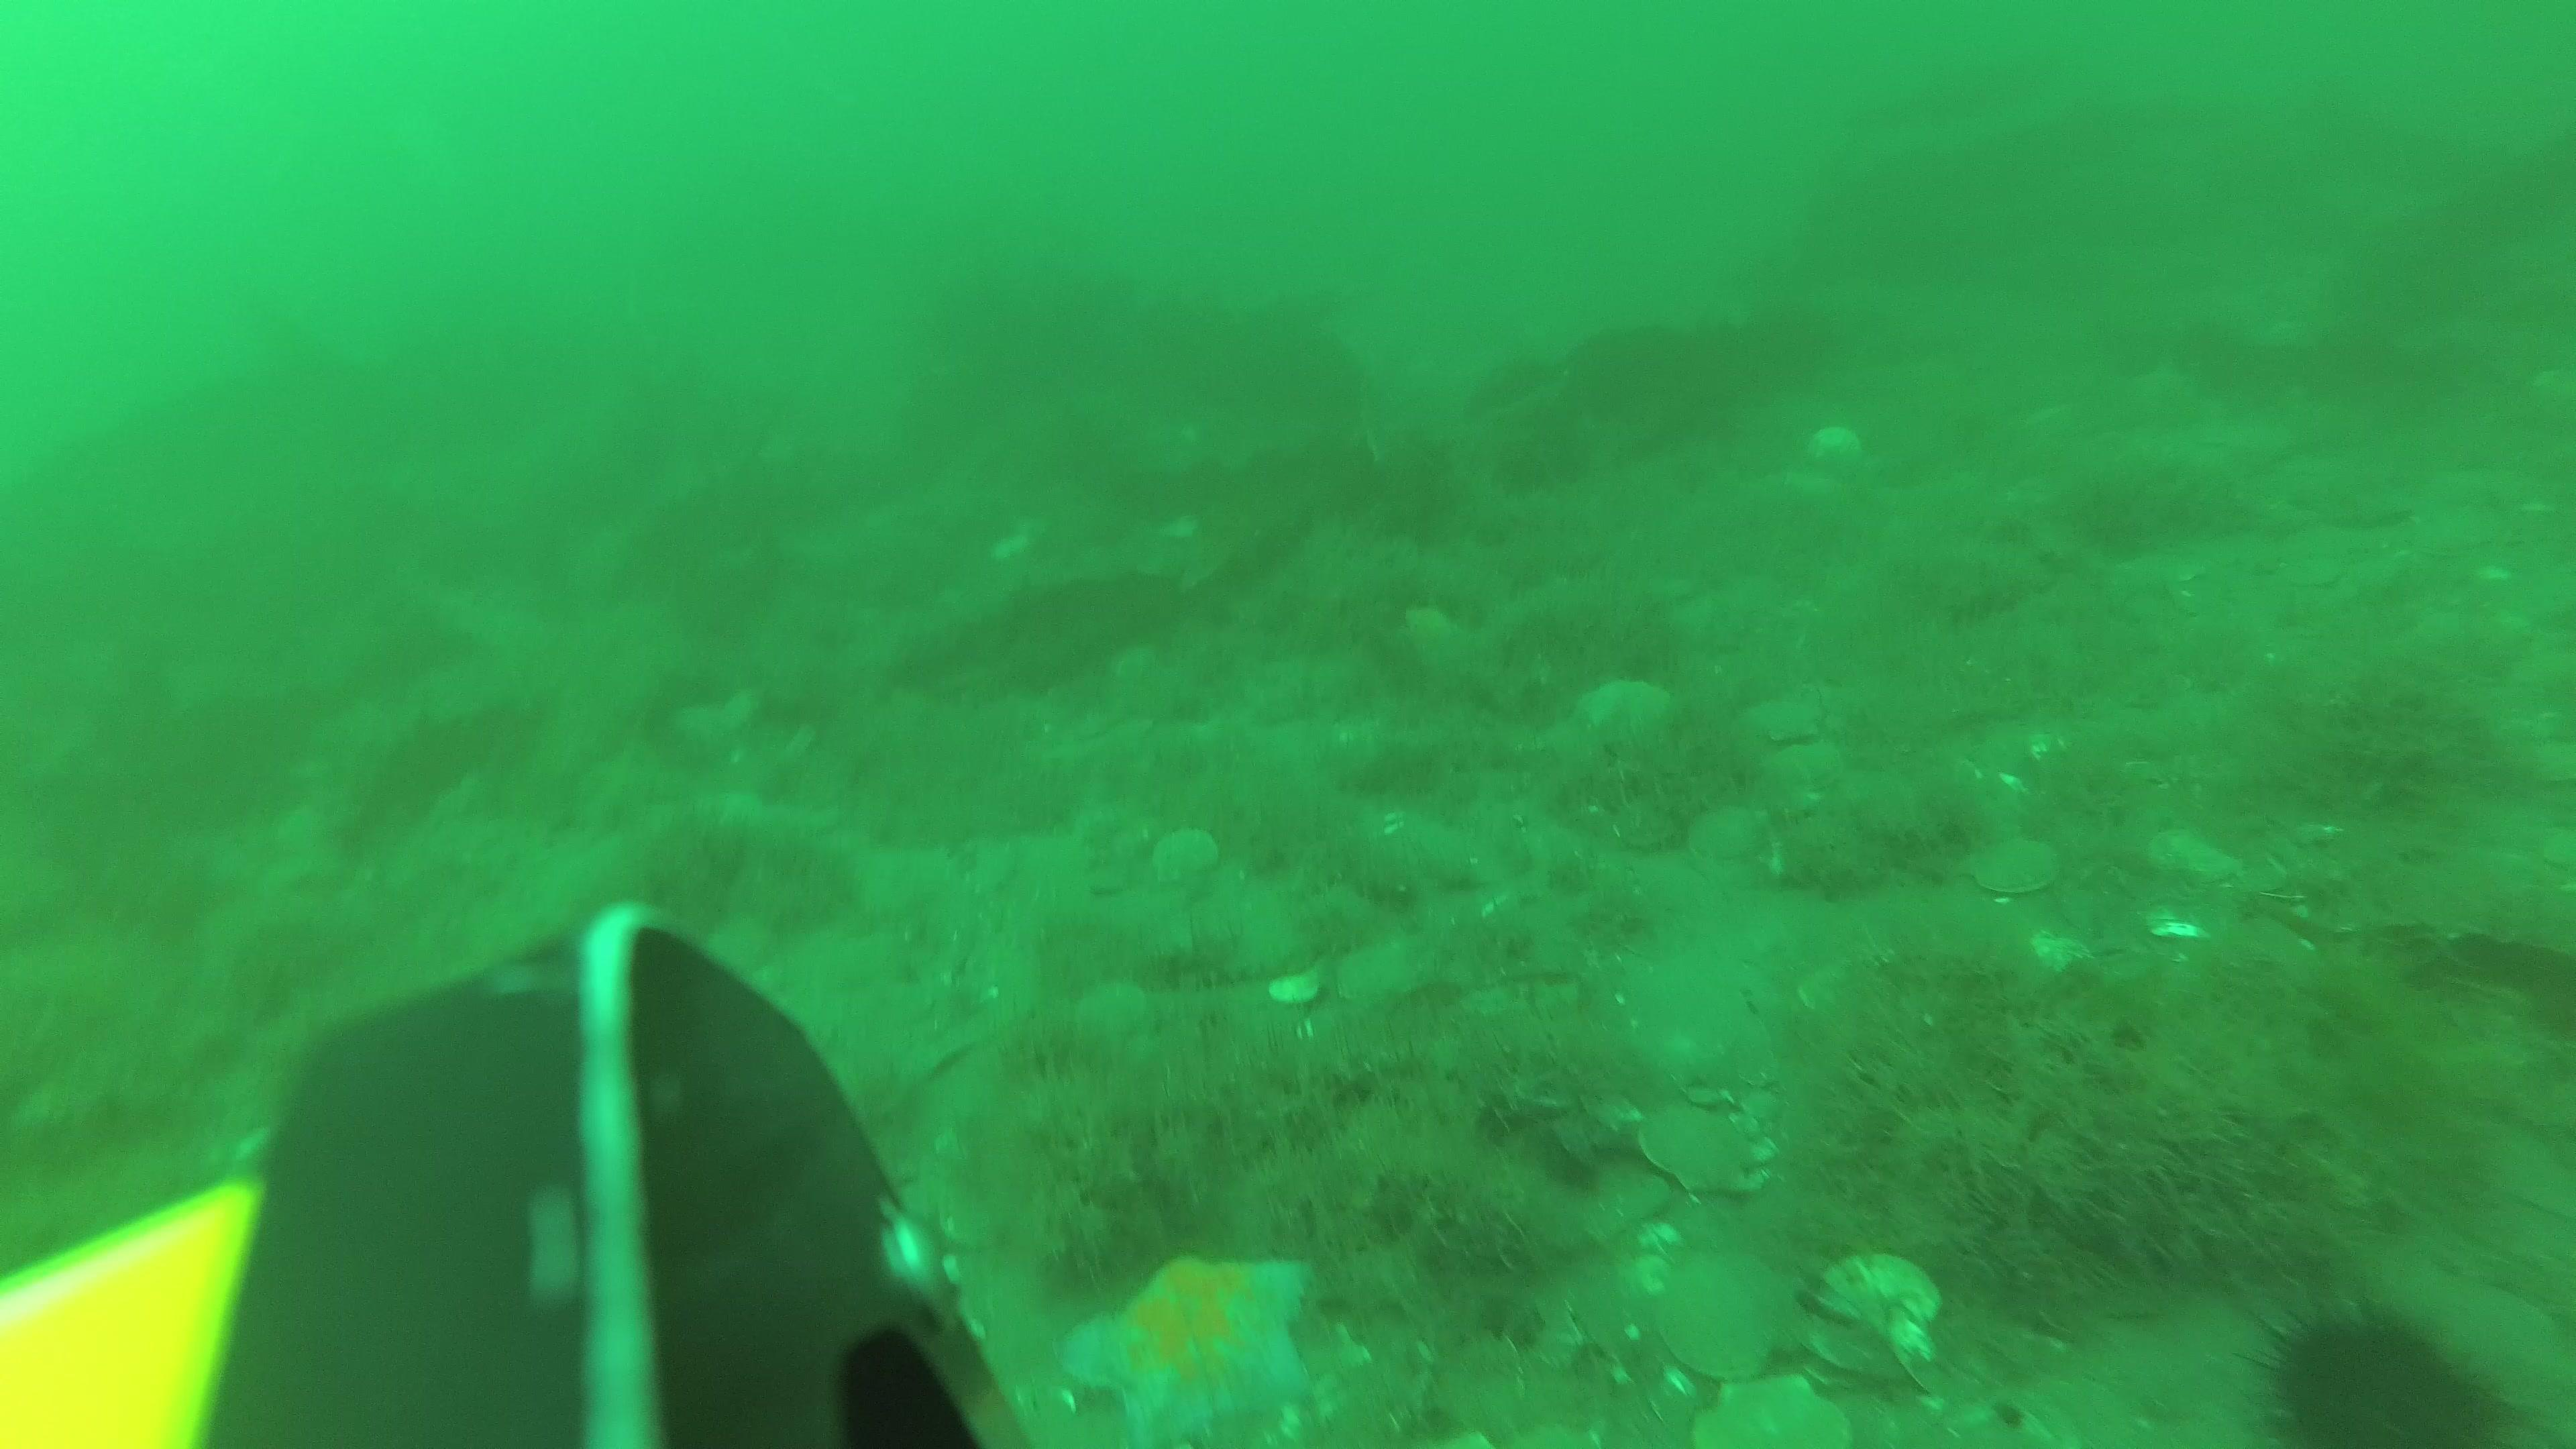echinus: (2226, 1267, 2544, 1449)
scallop: (1645, 1242, 1810, 1389), (1812, 1246, 1948, 1366), (1690, 1368, 1858, 1449), (1635, 1092, 1759, 1200), (1364, 810, 1477, 892), (1330, 938, 1449, 1014), (1957, 828, 2068, 902), (2143, 823, 2258, 890), (1063, 973, 1154, 1056), (1683, 798, 1773, 872), (1148, 819, 1224, 890), (1743, 692, 1828, 745), (2532, 738, 2576, 793)
starfish: (1053, 1240, 1318, 1449), (1571, 663, 1684, 747)
